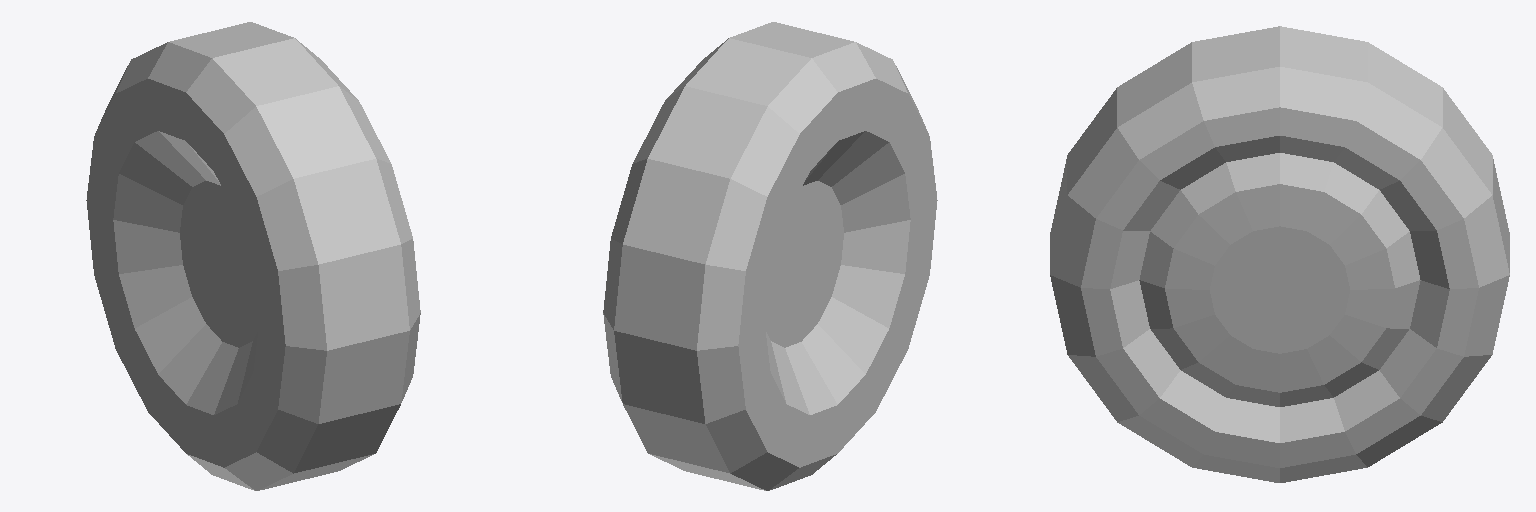
Rendered from car_wheel.obj.
3 renders of one model, left to right at view 1: azimuth 30°, elevation 25°; view 2: azimuth 150°, elevation 25°; view 3: azimuth 270°, elevation 25°, orthographic.
Visible parts, largest first — view 1: car_wheel_Cylinder.003; view 2: car_wheel_Cylinder.003; view 3: car_wheel_Cylinder.003.
Boxes of the visible parts, box(x1,y1,x2,y2) form: car_wheel_Cylinder.003: box(86, 22, 420, 490); car_wheel_Cylinder.003: box(603, 22, 937, 490); car_wheel_Cylinder.003: box(1050, 26, 1509, 482).
Bounding box in the file's own units: 0.3571 × 1.02 × 1.02.